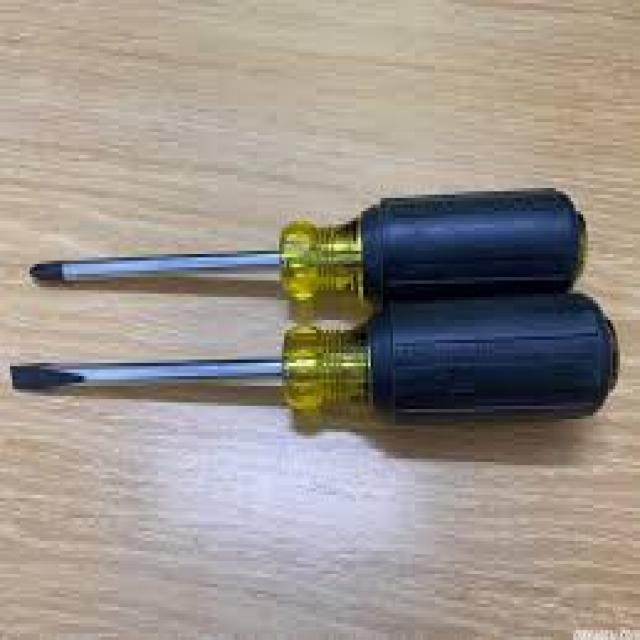screwdriver: (11, 292, 624, 417), (26, 185, 604, 297)
